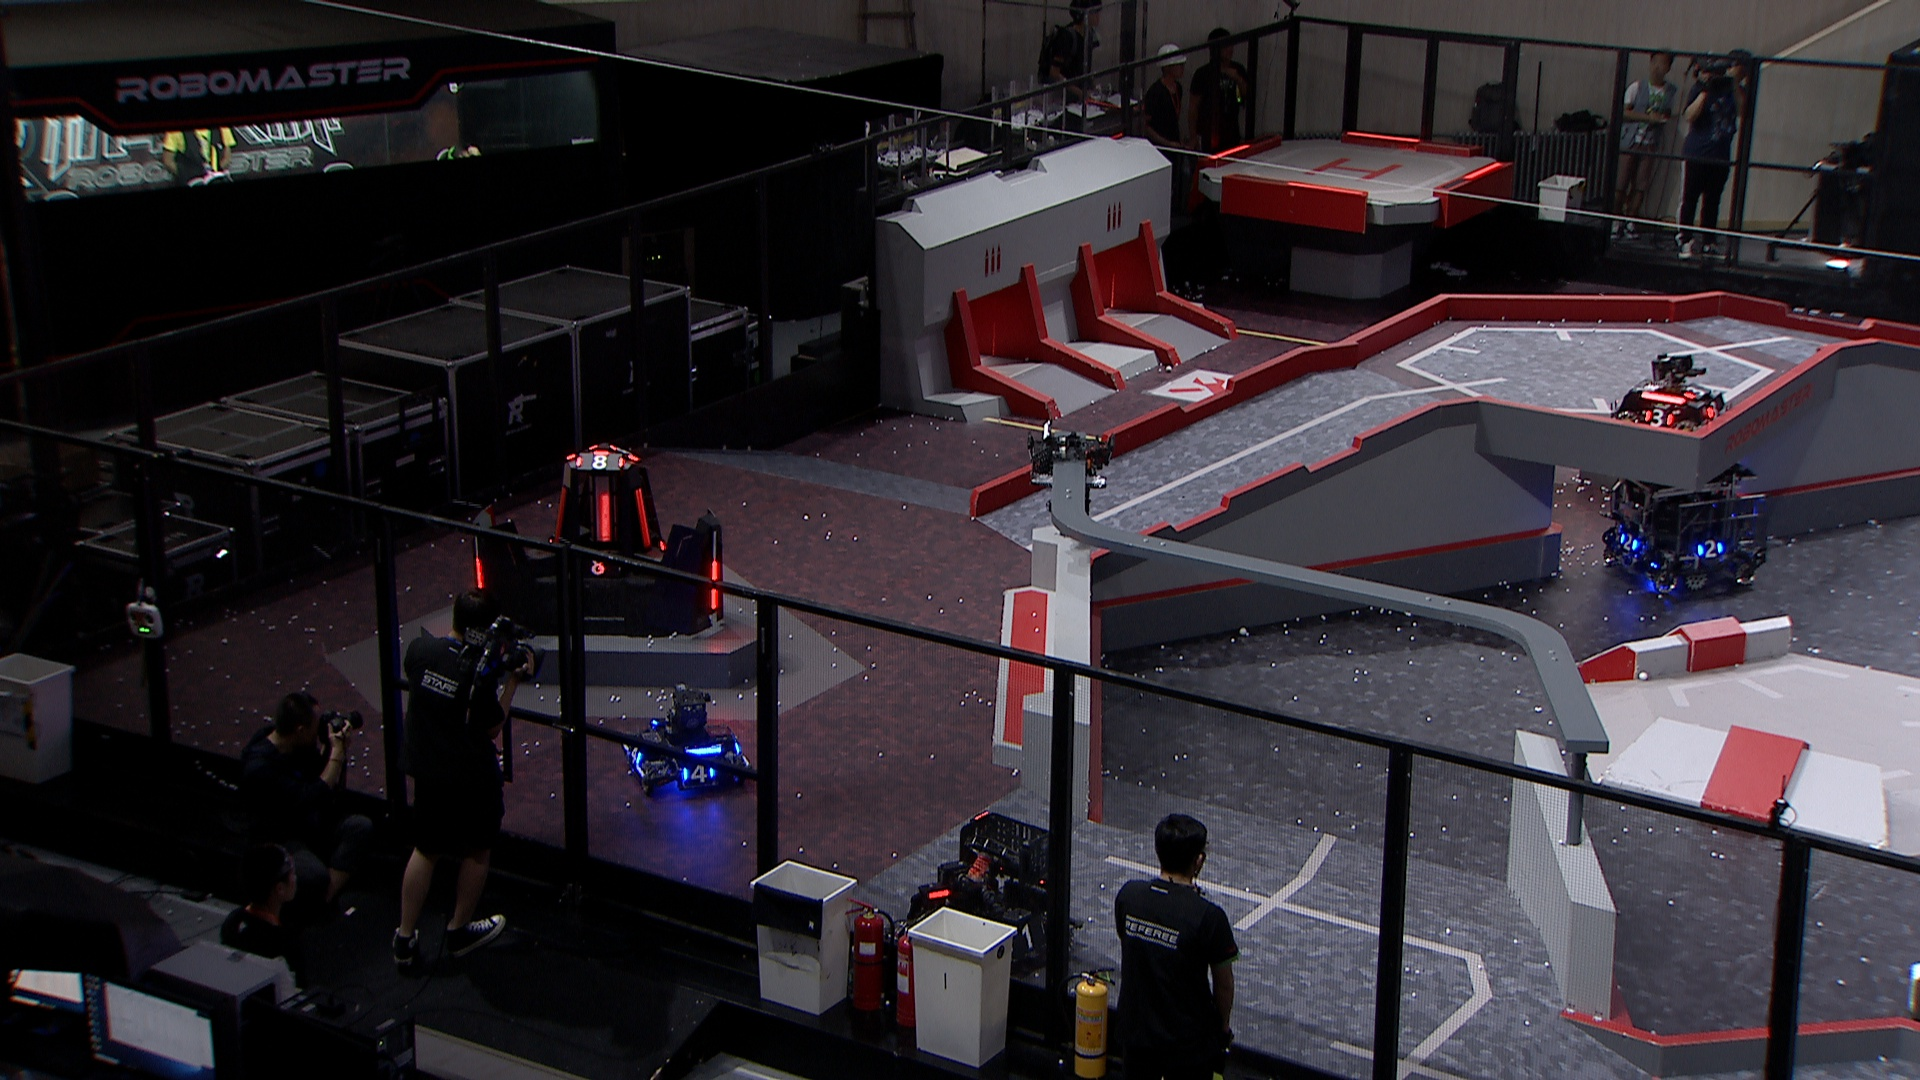armor: (576, 555, 622, 579), (593, 491, 613, 545), (1011, 920, 1044, 951), (636, 489, 651, 551), (553, 483, 567, 549), (574, 455, 622, 472), (707, 556, 721, 612), (680, 764, 713, 782), (472, 553, 487, 593), (1618, 529, 1640, 553), (622, 744, 645, 765), (1644, 409, 1673, 425), (1704, 400, 1726, 418), (1683, 384, 1708, 400), (1700, 541, 1722, 556)
base: (451, 439, 727, 637)
car: (906, 808, 1083, 978), (1600, 451, 1768, 595), (617, 684, 750, 800), (1609, 353, 1731, 446)
watcher: (1025, 418, 1116, 518)
